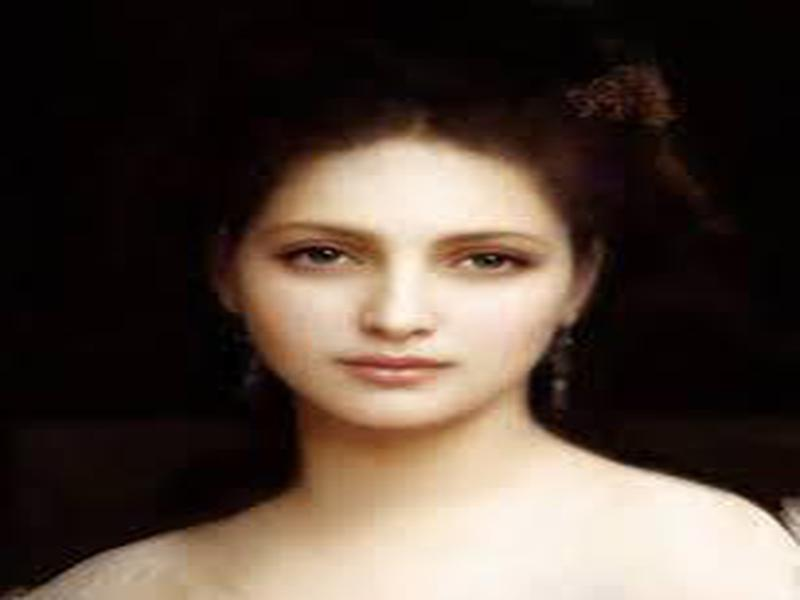without_mask: (249, 151, 563, 429)
